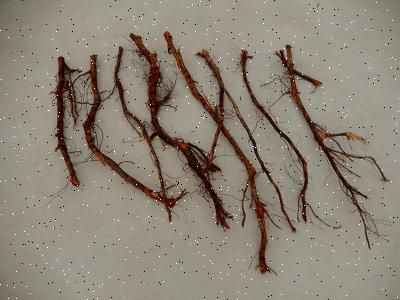Root: (164, 31, 269, 272), (130, 34, 230, 217), (196, 50, 295, 231), (276, 45, 367, 220), (83, 55, 178, 207), (241, 50, 308, 222), (115, 47, 159, 171), (53, 56, 79, 187), (341, 152, 387, 181)
